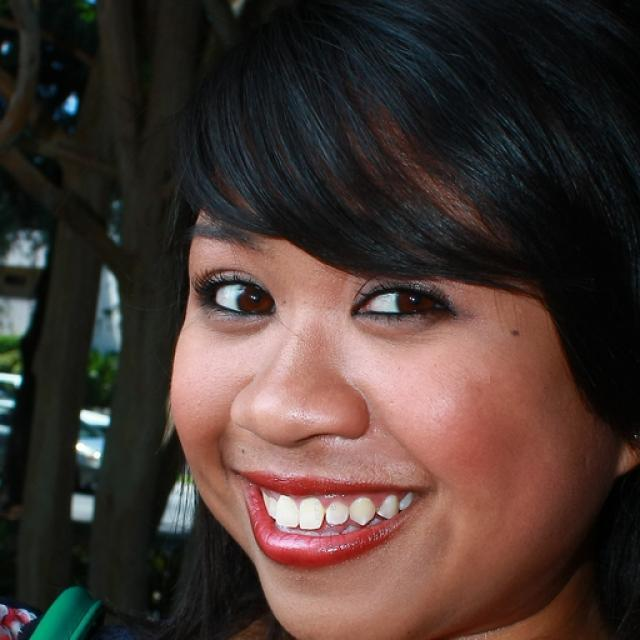happy: (170, 118, 580, 636)
